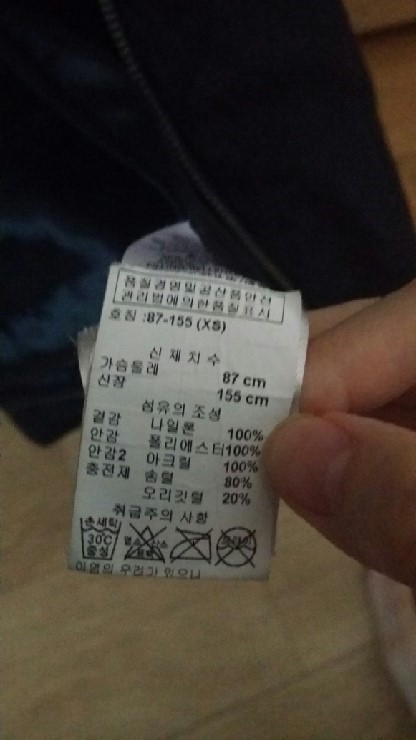KR_hand_wash_30_neutral: (76, 515, 122, 562)
KR_no_bleach: (123, 521, 167, 564)
KR_no_dry_clean: (214, 525, 259, 569)
KR_no_iron: (169, 527, 213, 565)
